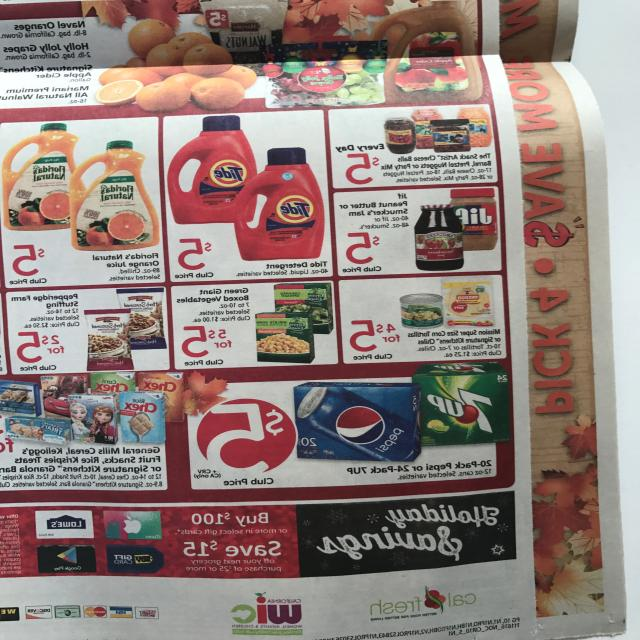paper: (0, 1, 624, 640)
